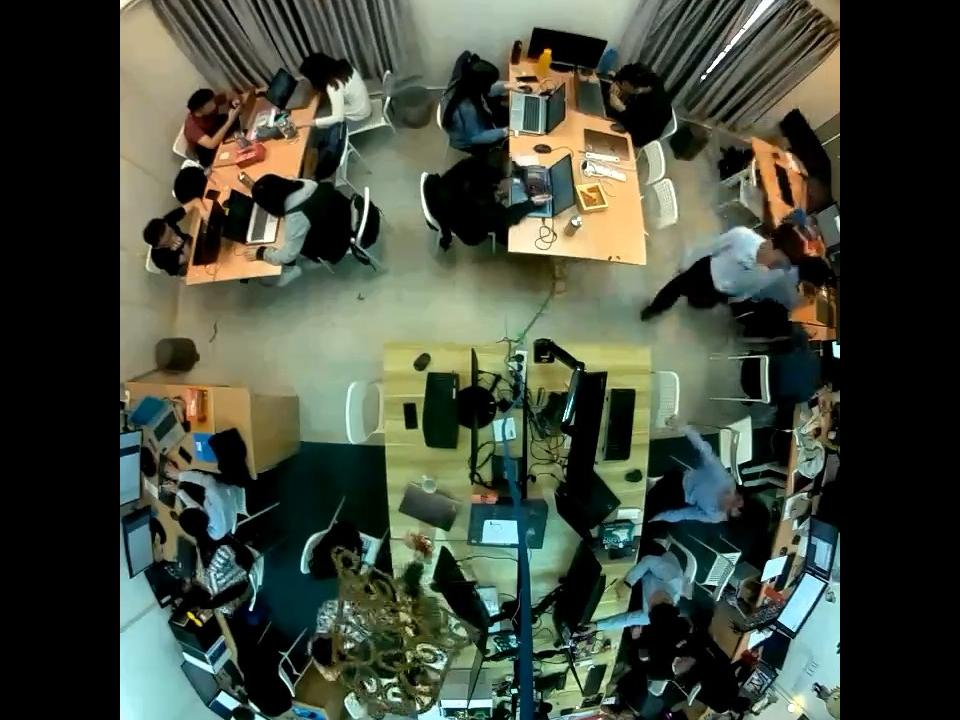name-tag: (736, 257, 752, 270)
